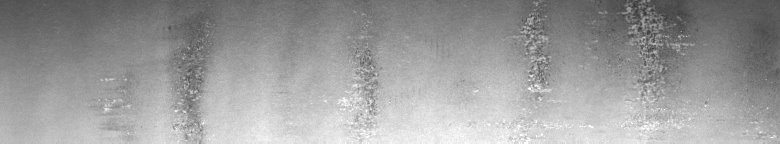hc: (513, 4, 695, 128)
